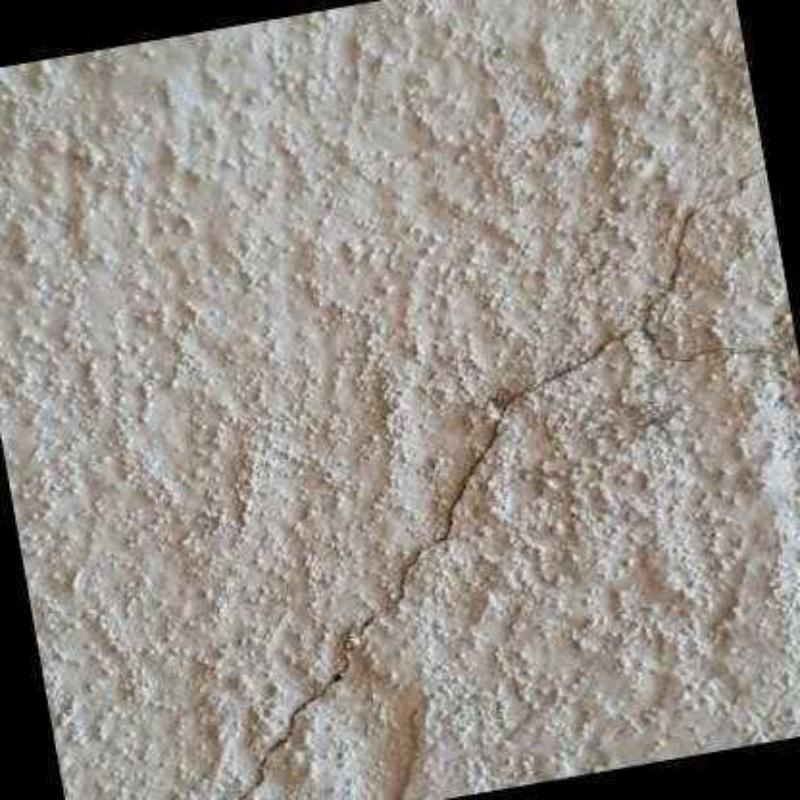crack: (209, 155, 800, 800)
